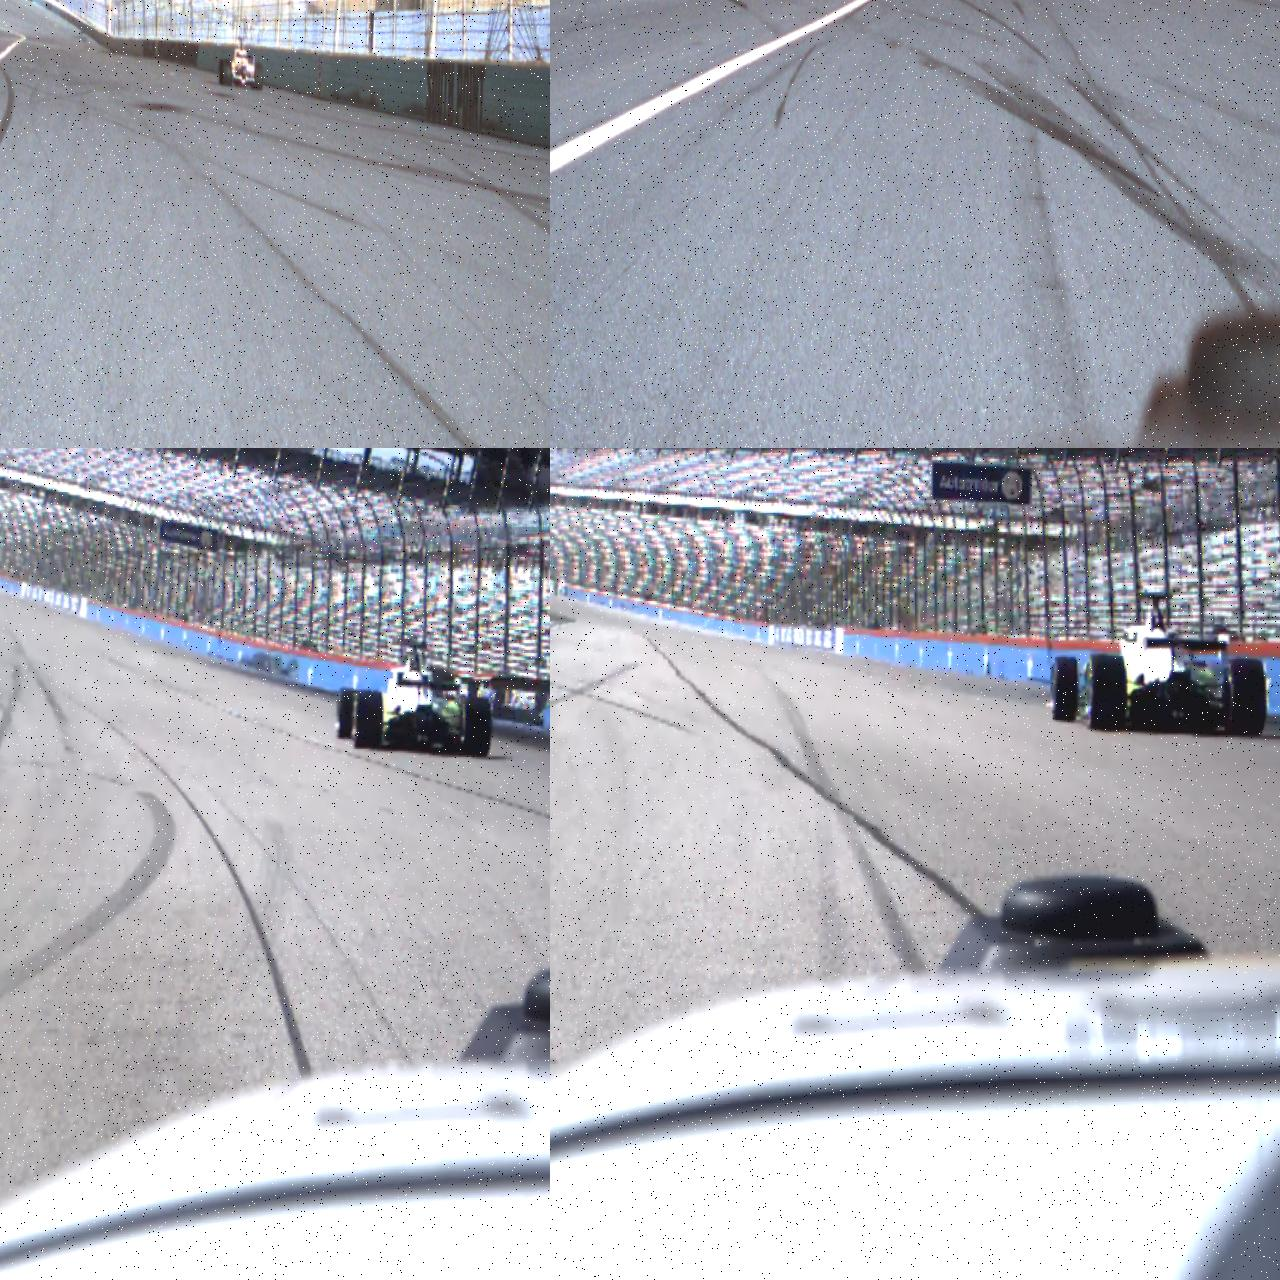AV: (1044, 590, 1268, 741), (333, 636, 495, 761), (218, 36, 264, 91)
Wheel: (1226, 658, 1266, 737), (1089, 653, 1126, 731), (462, 697, 493, 758), (352, 690, 383, 750), (1051, 656, 1078, 722), (335, 687, 359, 740), (254, 63, 264, 90), (224, 59, 232, 86), (219, 60, 225, 84)
